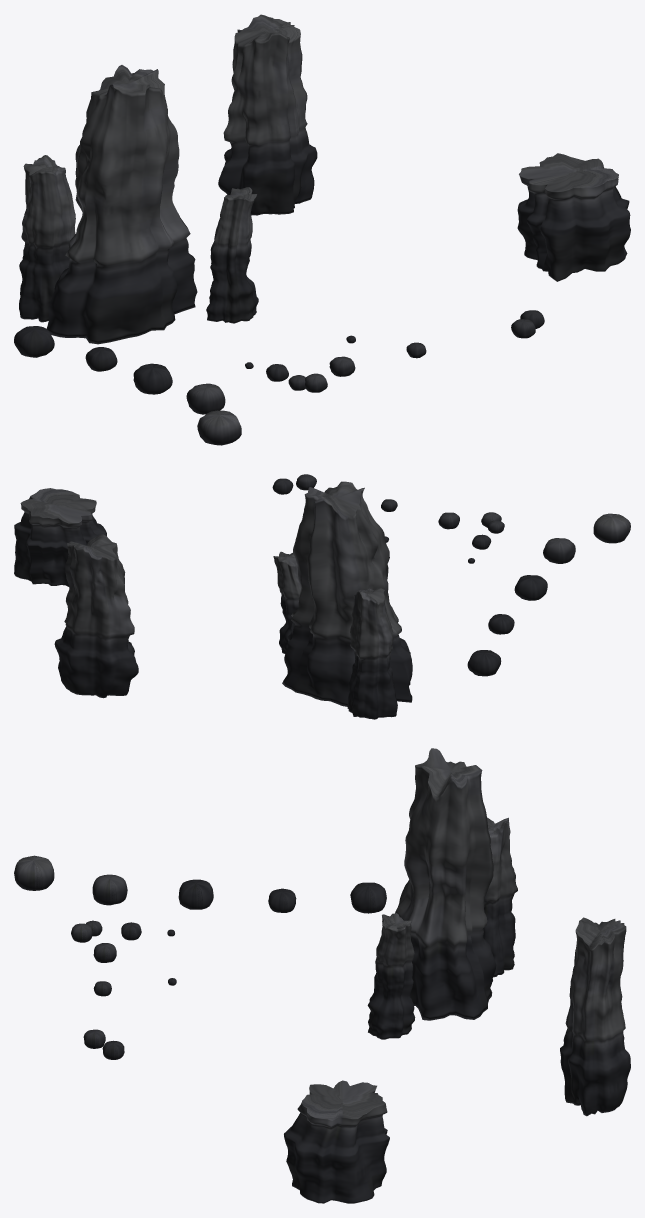
The model's file is stacks-v2.glb.
The picture shows the model from 3 angles, top to bottom: view 1: azimuth 30°, elevation 25°; view 2: azimuth 150°, elevation 25°; view 3: azimuth 270°, elevation 25°; orthographic projection. The views are drawn at different scales.
Size of the model in its own units: 62.39 by 24 by 57.23.
Materials: 1 (1 with a texture image).
